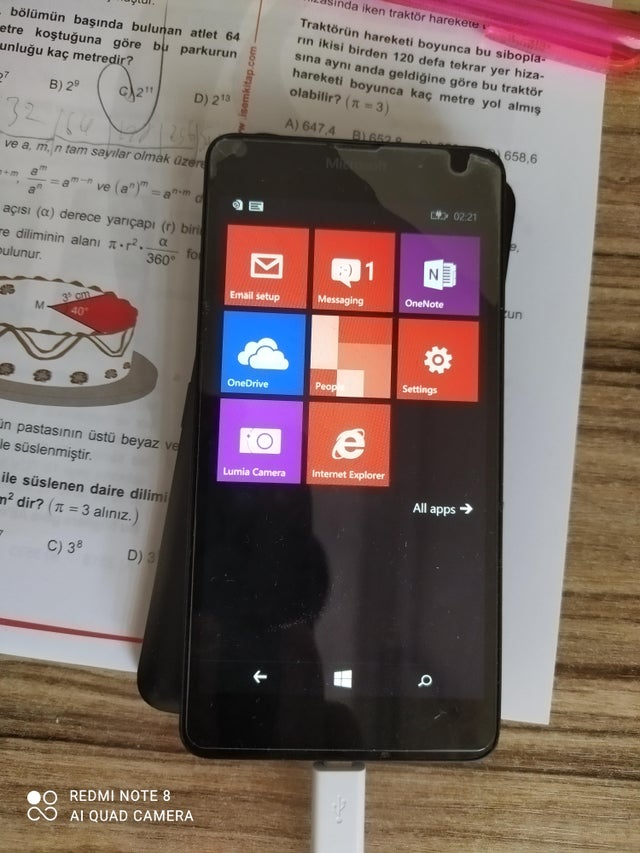Cell Phone: (176, 131, 519, 772)
